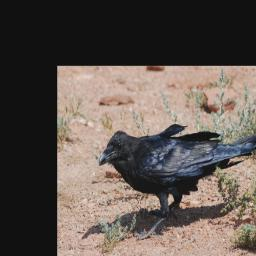Crow: (97, 123, 256, 242)
